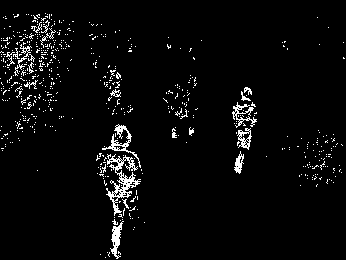person: (101, 126, 143, 257), (235, 86, 257, 178), (100, 63, 130, 120)
